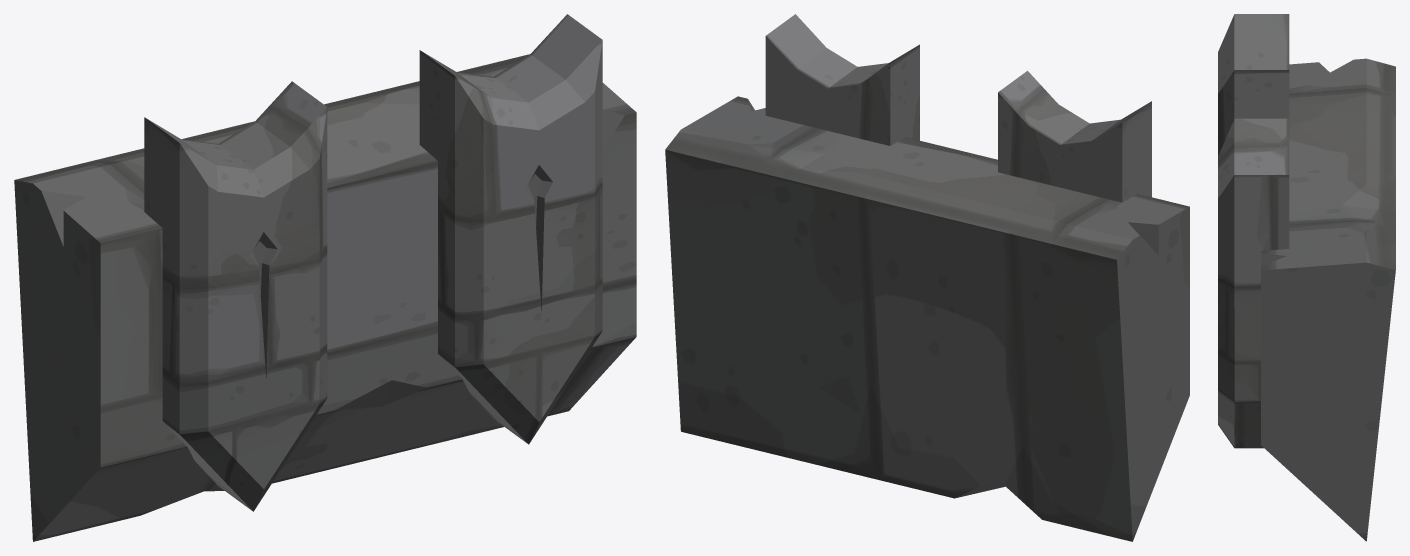
Rendered from SM_Bld_Battlements_Half_01.fbx.
The picture shows the model from 3 angles, left to right: view 1: azimuth 30°, elevation 25°; view 2: azimuth 150°, elevation 25°; view 3: azimuth 270°, elevation 25°; orthographic projection. The views are drawn at different scales.
Parts seen in each view (by area): view 1: SM_Bld_Battlements_Half_01; view 2: SM_Bld_Battlements_Half_01; view 3: SM_Bld_Battlements_Half_01.
Boxes of the visible parts, box(x1,y1,x2,y2) form: SM_Bld_Battlements_Half_01: box(14, 14, 636, 541); SM_Bld_Battlements_Half_01: box(665, 14, 1189, 541); SM_Bld_Battlements_Half_01: box(1218, 14, 1395, 541).
Size of the model in its own units: 250 by 199 by 92.1.
1 material, 1 textured.
